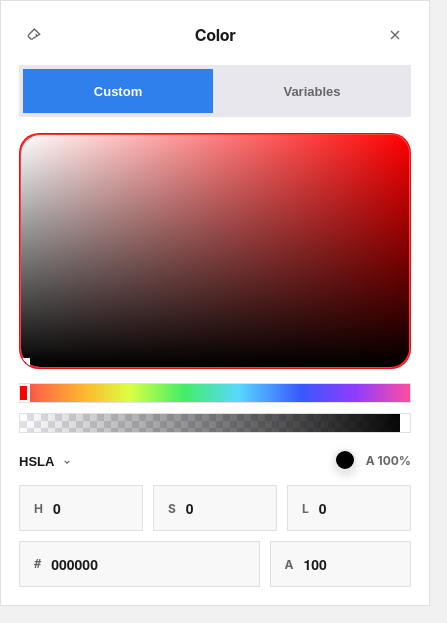
it: ColorPicker › clamps HSL values to valid ranges
Step 1. Replace the text in the number field labelled "H" with "400" → (90,508), box [53,498,128,518]
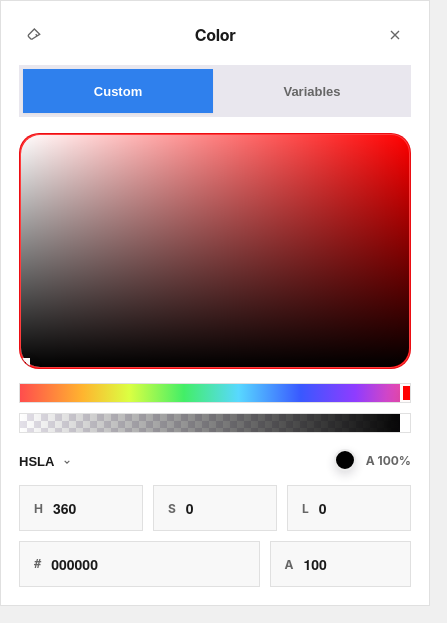
expect the number field labelled "H" holds "360": met, box [53,498,128,518]
